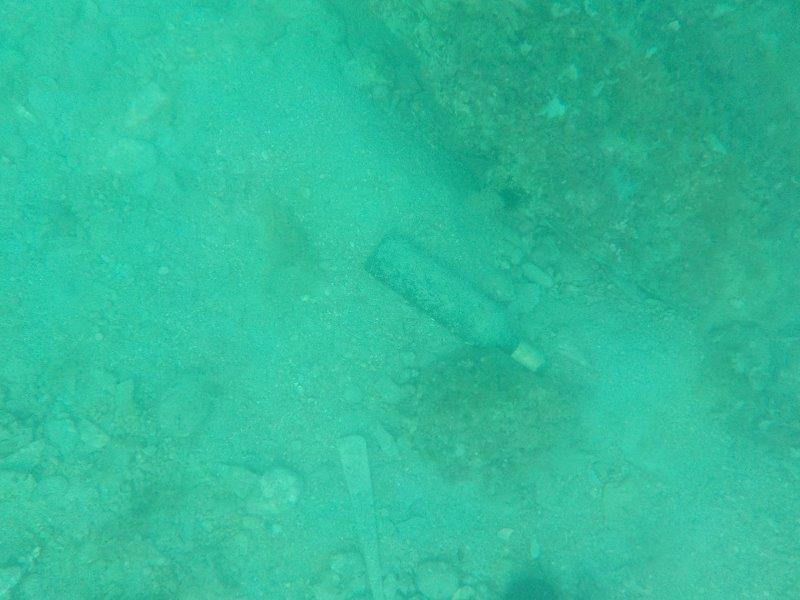bottle: (360, 224, 549, 379)
